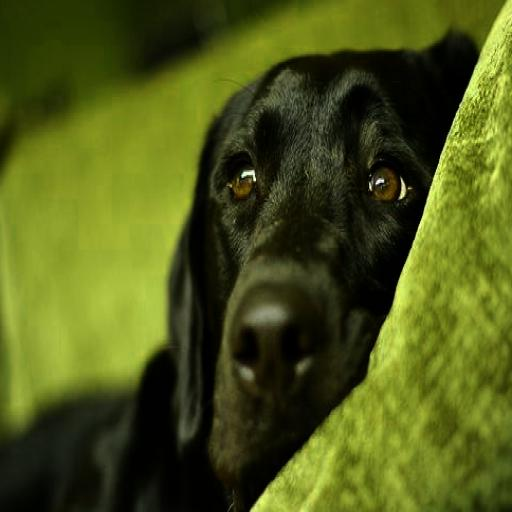dog_face: (176, 65, 478, 458)
